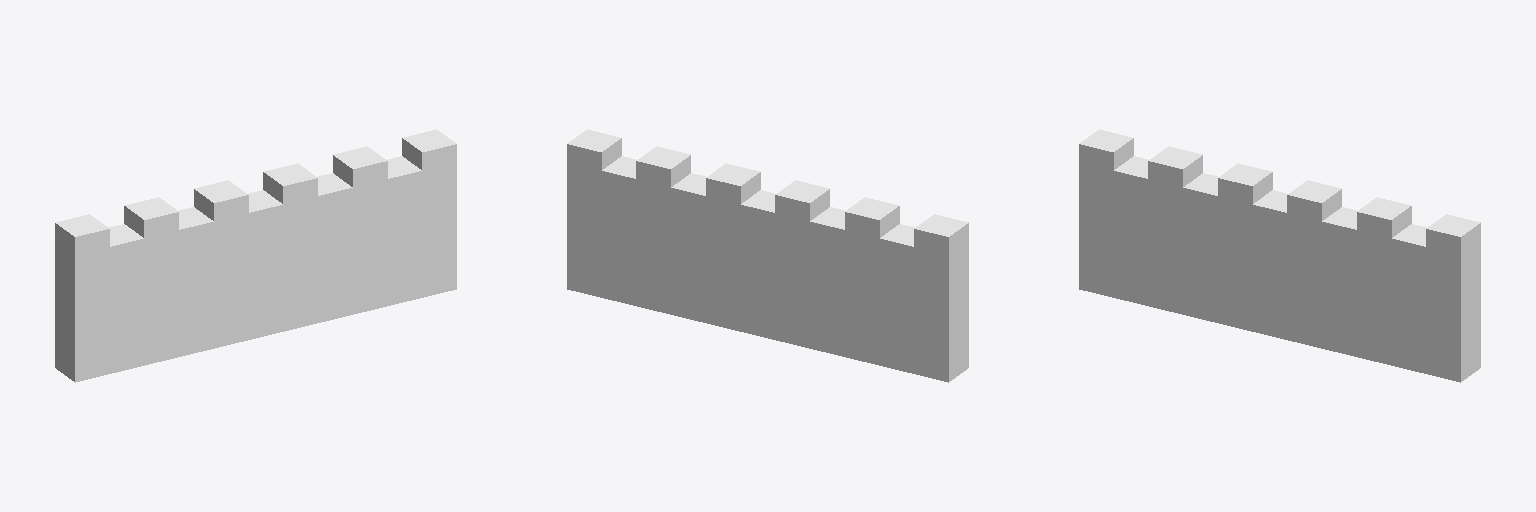
The model's file is Stena.obj.
3 views of the same model, side by side, from view 1: azimuth 30°, elevation 25°; view 2: azimuth 150°, elevation 25°; view 3: azimuth 330°, elevation 25° (orthographic).
Parts seen in each view (by area): view 1: object 1; view 2: object 1; view 3: object 1.
Part boxes in pixels (x1,y1,x2,y2): object 1: (55,129,456,382); object 1: (567,129,968,382); object 1: (1079,129,1480,382).
Bounding box in the file's own units: 17.6 × 6.4 × 1.6.